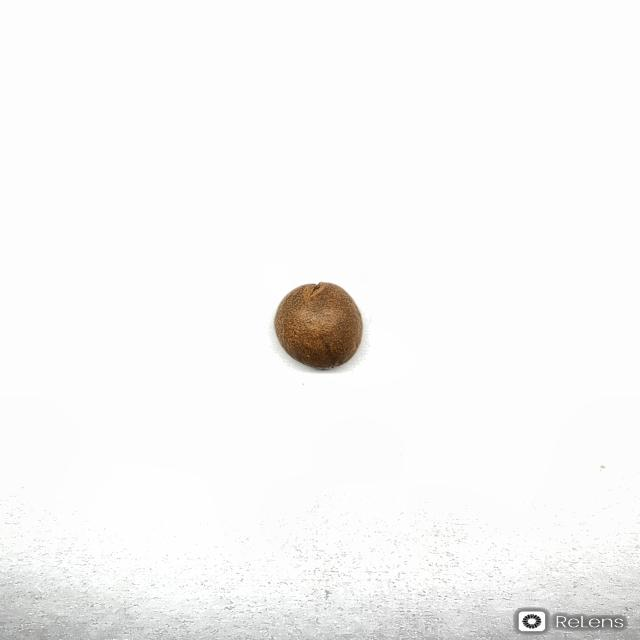Good bean: (273, 281, 363, 369)
